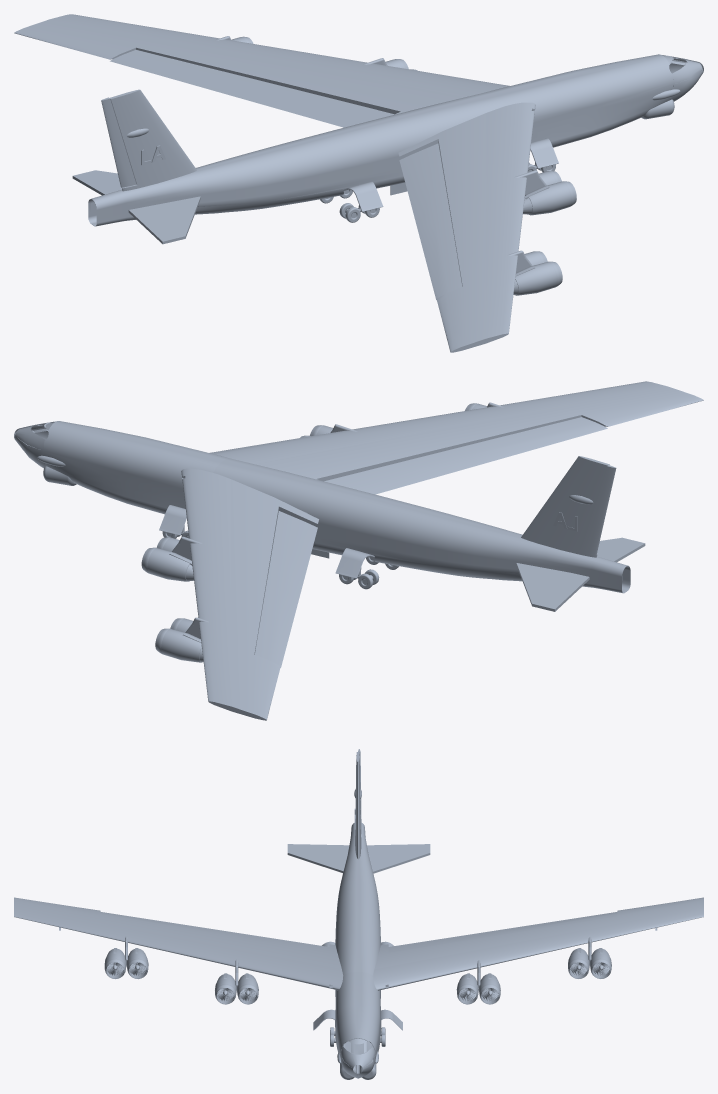
3 views of the same model, one above another, from view 1: azimuth 30°, elevation 25°; view 2: azimuth 150°, elevation 25°; view 3: azimuth 270°, elevation 25° (orthographic). The views are drawn at different scales.
Visible parts, largest first — view 1: Obj_stitch_result_stitch all_3; view 2: Obj_stitch_result_stitch all_3; view 3: Obj_stitch_result_stitch all_3.
Part boxes in pixels (x1,y1,x2,y2): Obj_stitch_result_stitch all_3: [14, 14, 703, 352]; Obj_stitch_result_stitch all_3: [14, 381, 703, 720]; Obj_stitch_result_stitch all_3: [14, 749, 703, 1079].
Size of the model in its own units: 0.436 by 0.1153 by 0.5405.
